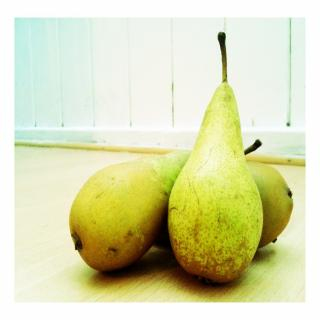Pear: (167, 82, 263, 280), (68, 146, 194, 274), (244, 162, 294, 254)
